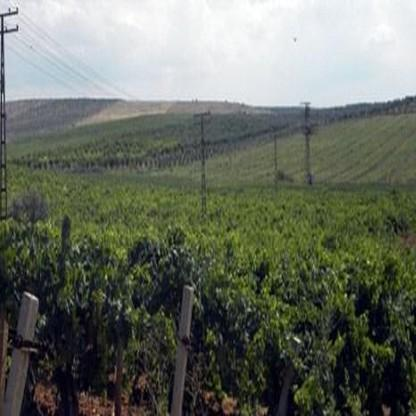obstacle: (65, 295, 184, 389)
